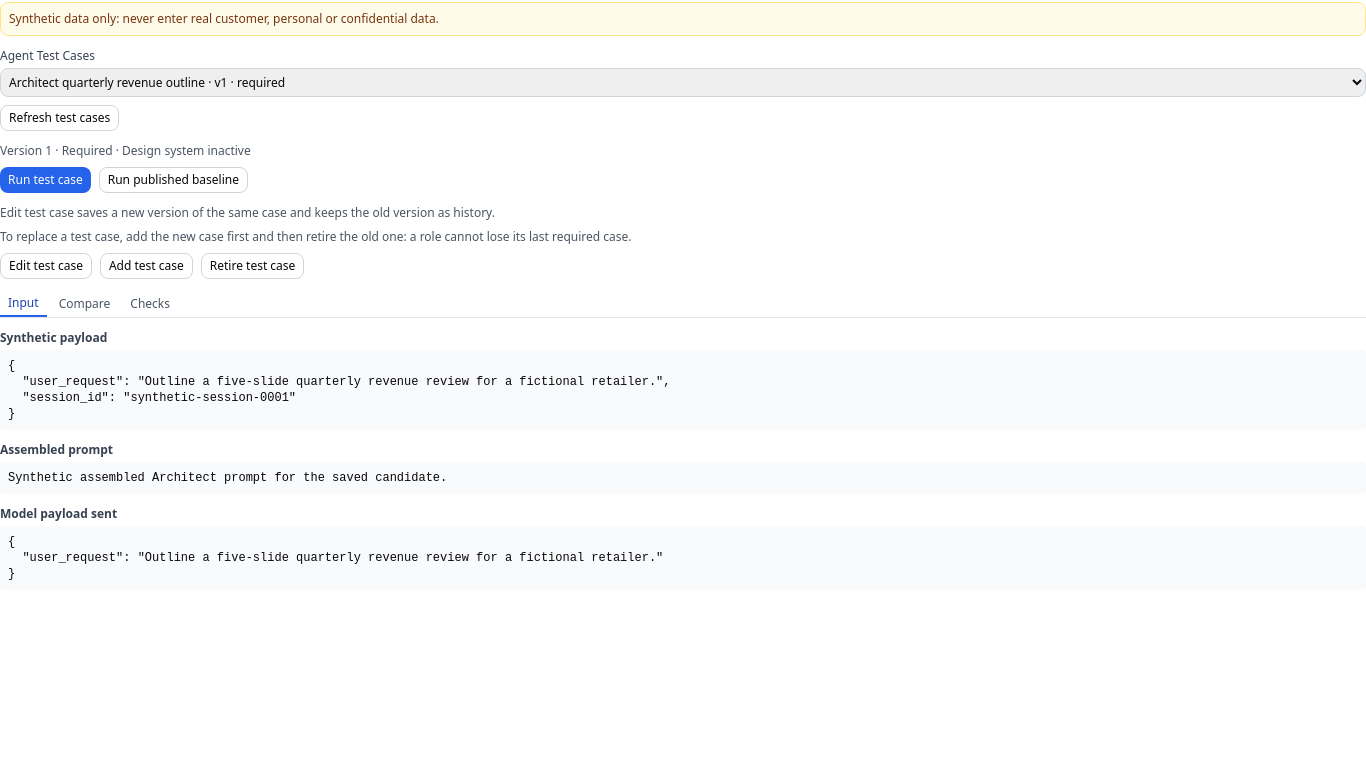
Test case: TestRunPanel › shows a stored baseline beside the candidate, labelled not approved (P1)
Click the tab "Compare" at coordinates (84, 304), box [51, 291, 118, 317]
(page scrolled)
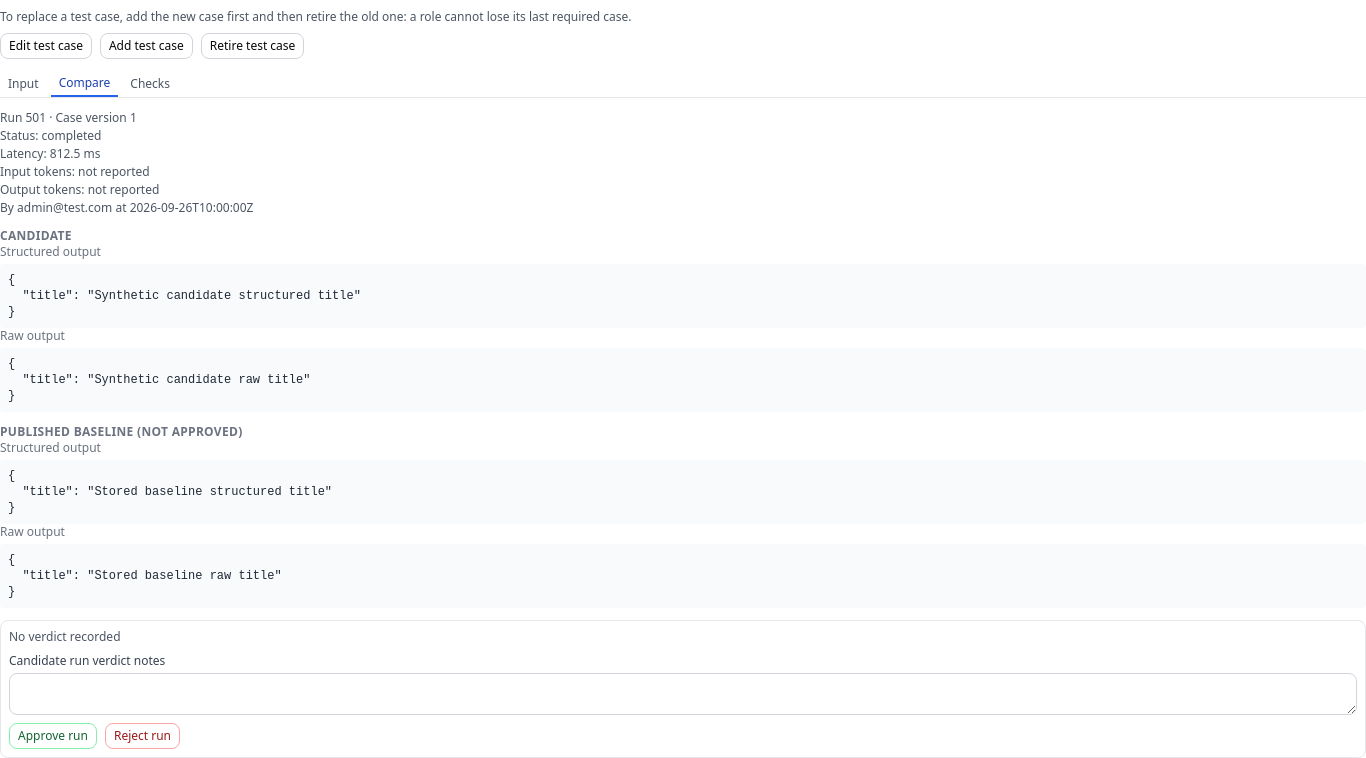
Expected: the element named "Test case evidence" shows "Stored baseline structured title", [8, 469, 332, 515]
Expected: the element named "Test case evidence" shows "Stored baseline raw title", [8, 553, 282, 599]
Expected: the element named "Test case evidence" shows "Published baseline (not approved)", [0, 423, 242, 440]
